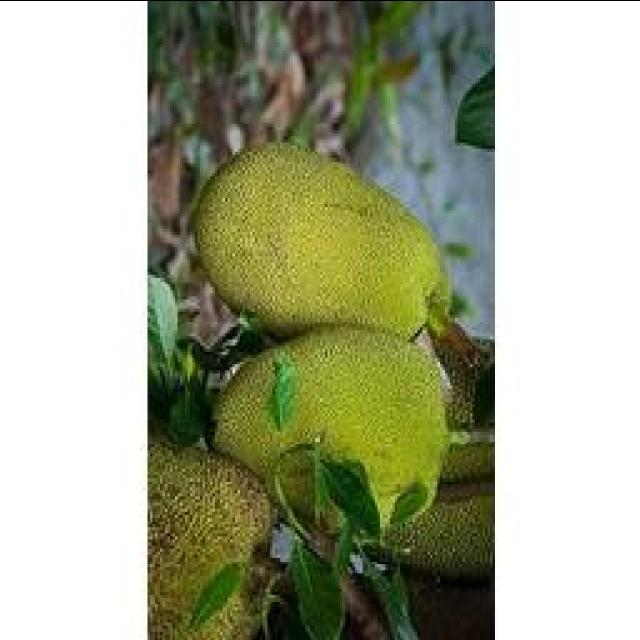Fruit: (182, 129, 450, 351), (195, 314, 463, 508)
